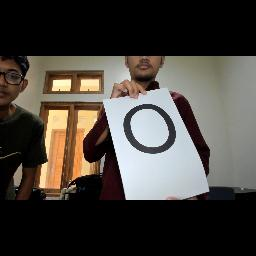o: (122, 102, 178, 156)
